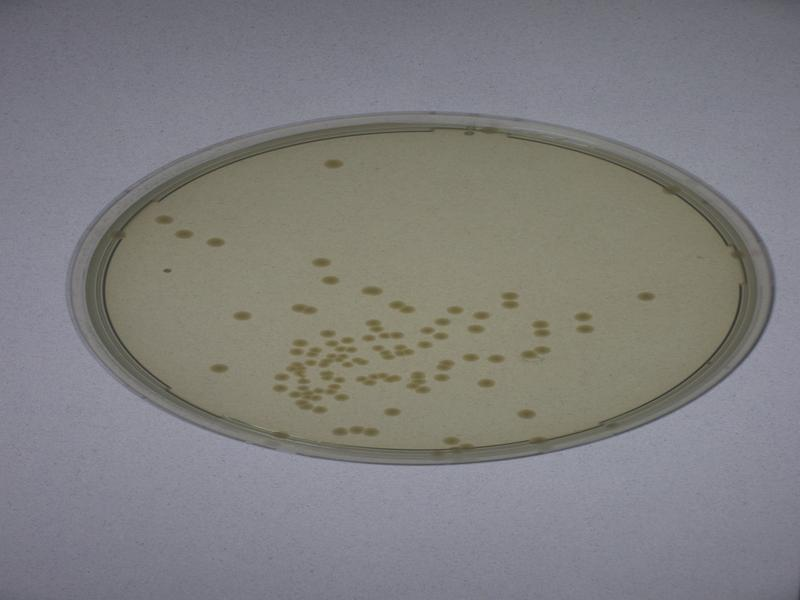colony: (635, 289, 658, 306), (203, 236, 225, 252), (322, 158, 344, 172), (231, 309, 253, 323), (477, 375, 496, 390), (383, 404, 402, 418), (313, 256, 332, 269), (488, 350, 505, 364), (176, 229, 193, 242), (211, 363, 228, 375), (519, 409, 536, 421), (156, 214, 174, 224)
